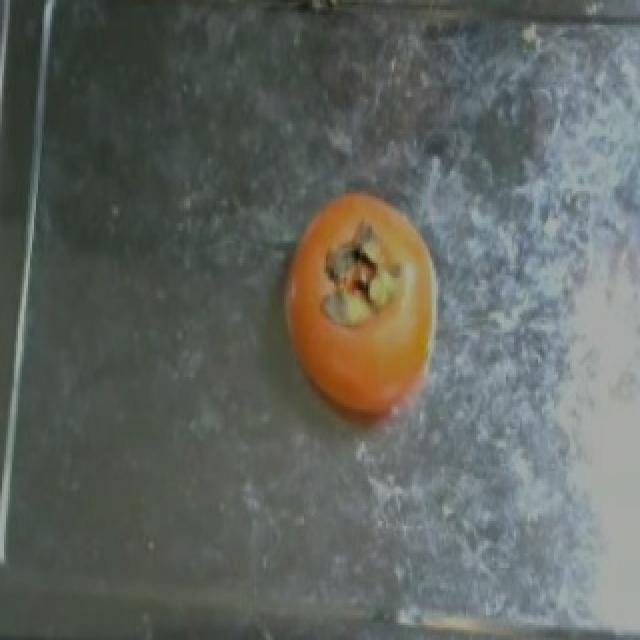Fruit: (262, 176, 462, 457)
